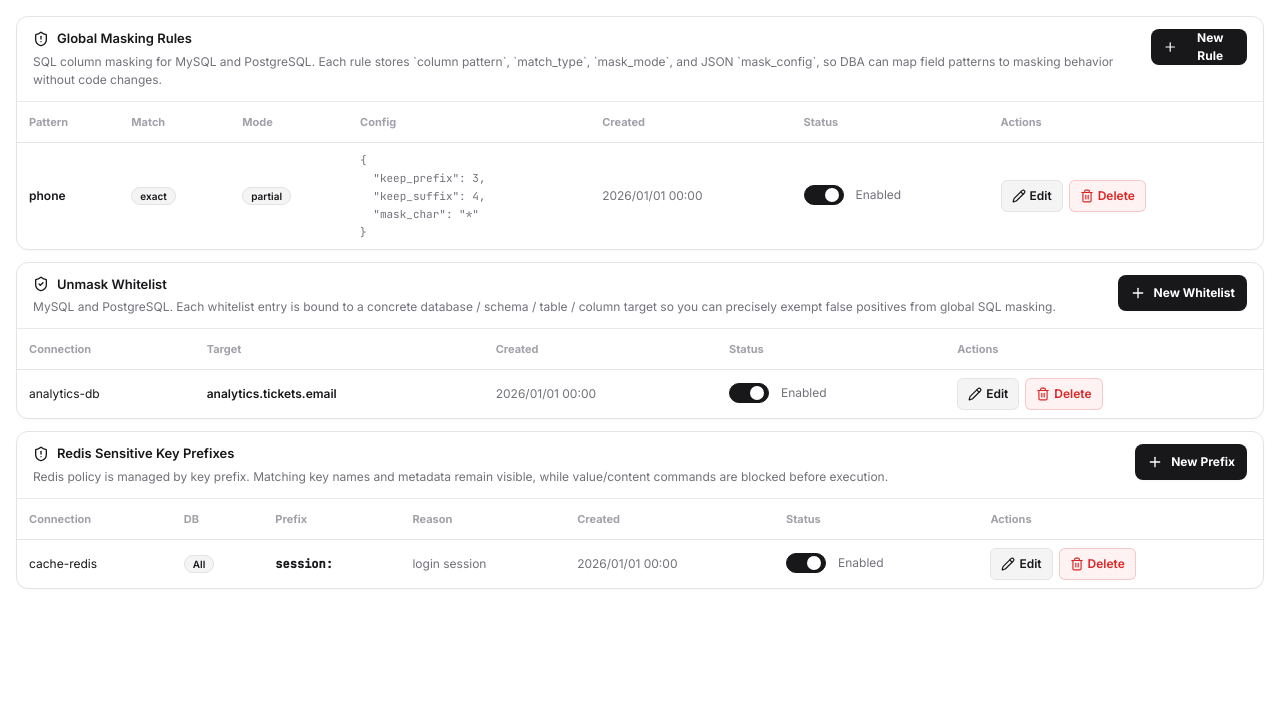
Test: MaskingRulesPage › toggles a whitelist entry enabled state from the list
Click the switch named "analytics.tickets.email enabled" at point(749, 393), box [729,383,769,403]
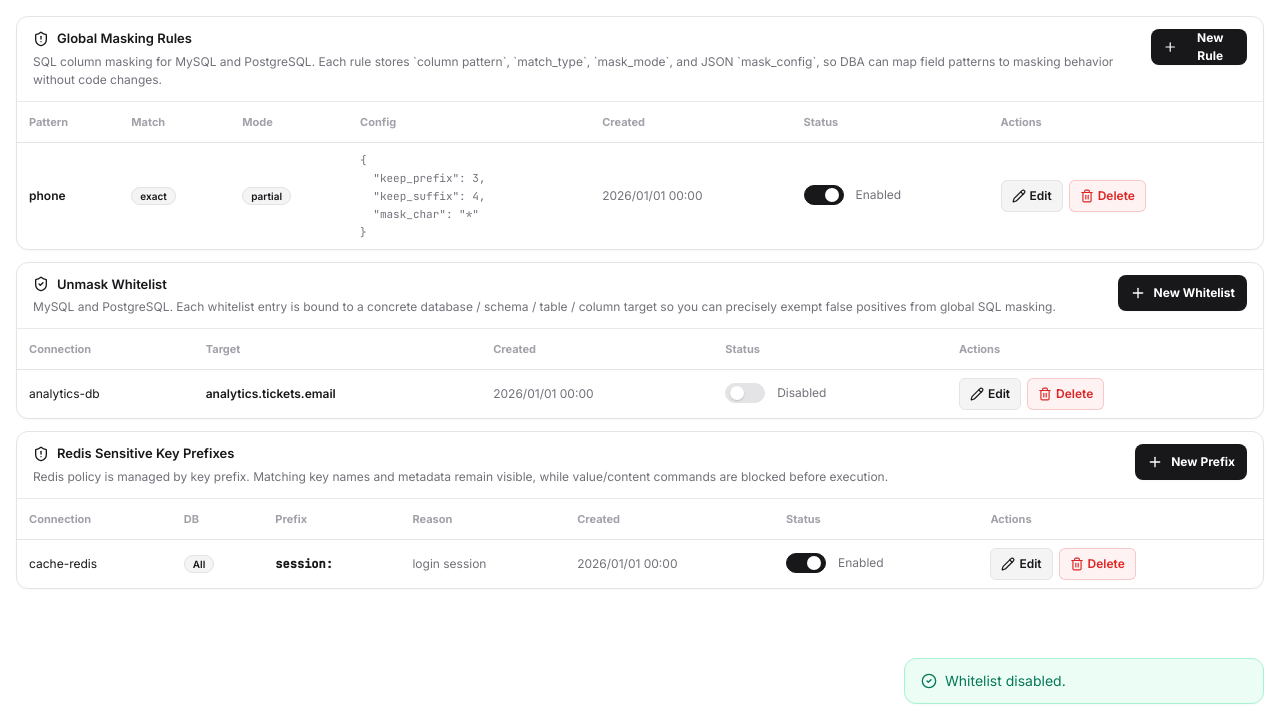
Expected: the text "Disabled" is shown, [777,384,826,402]
